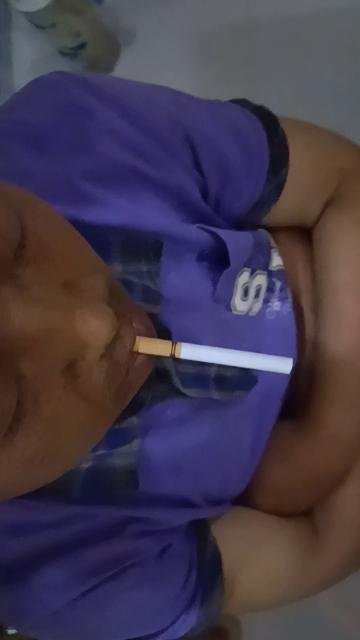Cigarette: (135, 337, 295, 375)
